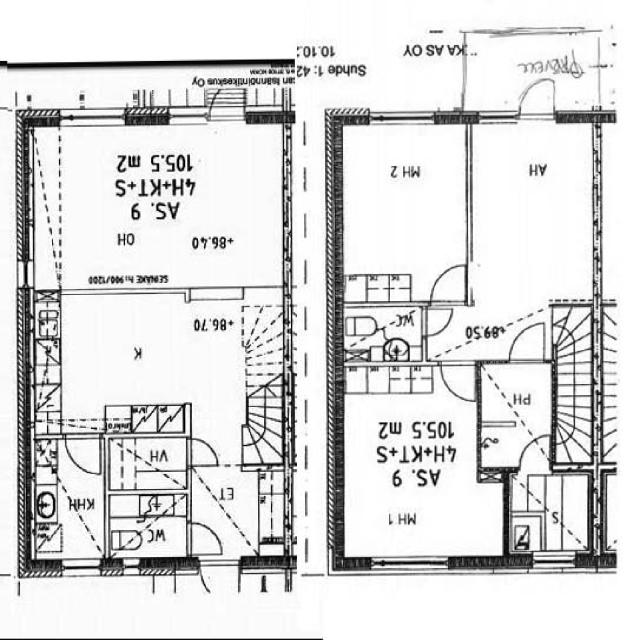door: (20, 121, 296, 288), (419, 266, 464, 344), (191, 514, 237, 583), (504, 318, 552, 366), (515, 76, 559, 125), (437, 356, 480, 403), (63, 429, 103, 478), (428, 262, 469, 306), (205, 86, 250, 126), (516, 433, 556, 476), (197, 554, 240, 593), (184, 517, 224, 556), (419, 302, 459, 341), (185, 435, 221, 469)
window: (361, 551, 452, 576), (369, 108, 442, 130), (526, 549, 582, 577), (58, 109, 129, 128), (165, 105, 209, 127), (60, 557, 104, 579), (474, 107, 519, 127), (15, 255, 36, 291)
zone: (18, 119, 294, 291), (31, 289, 284, 431), (337, 366, 500, 564), (468, 115, 604, 311), (334, 116, 472, 298), (27, 436, 107, 569), (188, 466, 294, 559), (477, 359, 555, 470), (505, 470, 596, 562), (106, 491, 189, 567), (338, 303, 427, 363), (104, 433, 189, 492), (244, 384, 284, 463)
